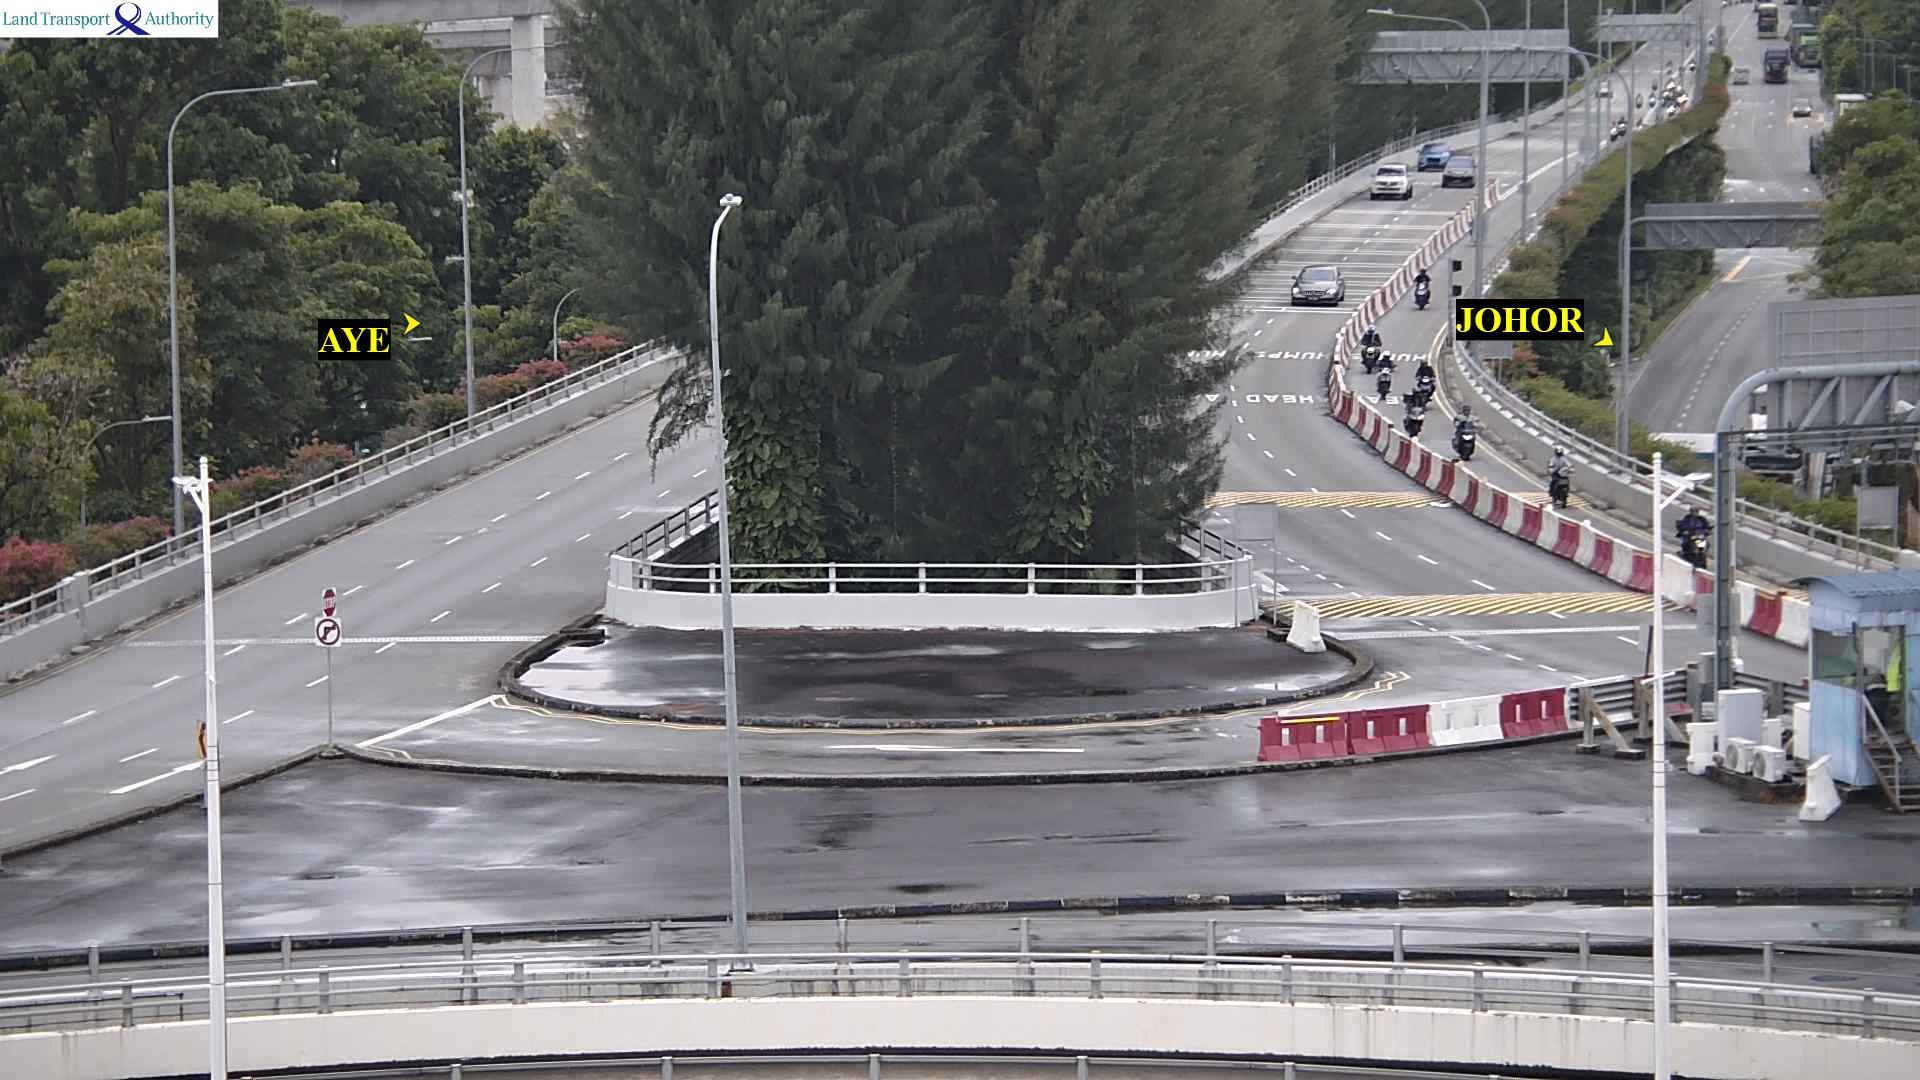vehicle-secondlink-johor: (1292, 270, 1348, 307), (1679, 513, 1716, 559), (1369, 166, 1419, 199), (1540, 465, 1573, 510), (1453, 415, 1485, 462), (1443, 160, 1486, 185), (1414, 360, 1436, 398), (1418, 149, 1449, 174), (1412, 268, 1428, 311), (1364, 326, 1377, 365), (1404, 398, 1419, 433), (1378, 352, 1390, 390), (1610, 120, 1627, 142)
